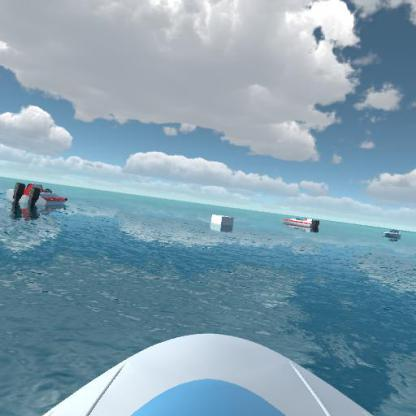usv1: (380, 223, 406, 242)
usv3: (3, 176, 77, 212), (276, 209, 323, 235)
